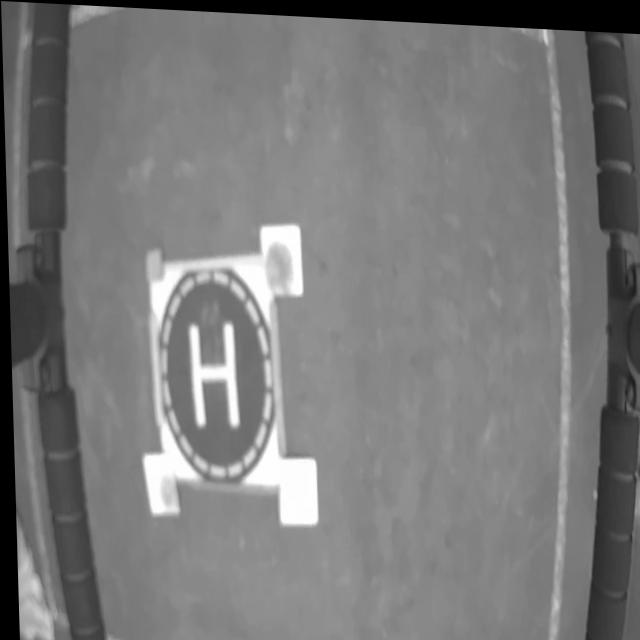Helipad: (185, 318, 236, 425)
